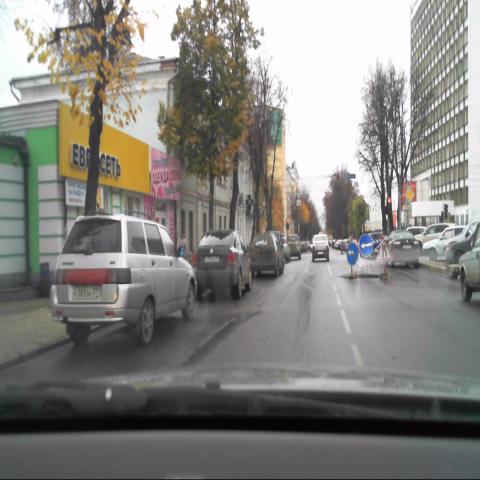1_20_2: (376, 236, 390, 260)
4_1_2_2: (359, 232, 373, 258), (346, 240, 358, 264)
